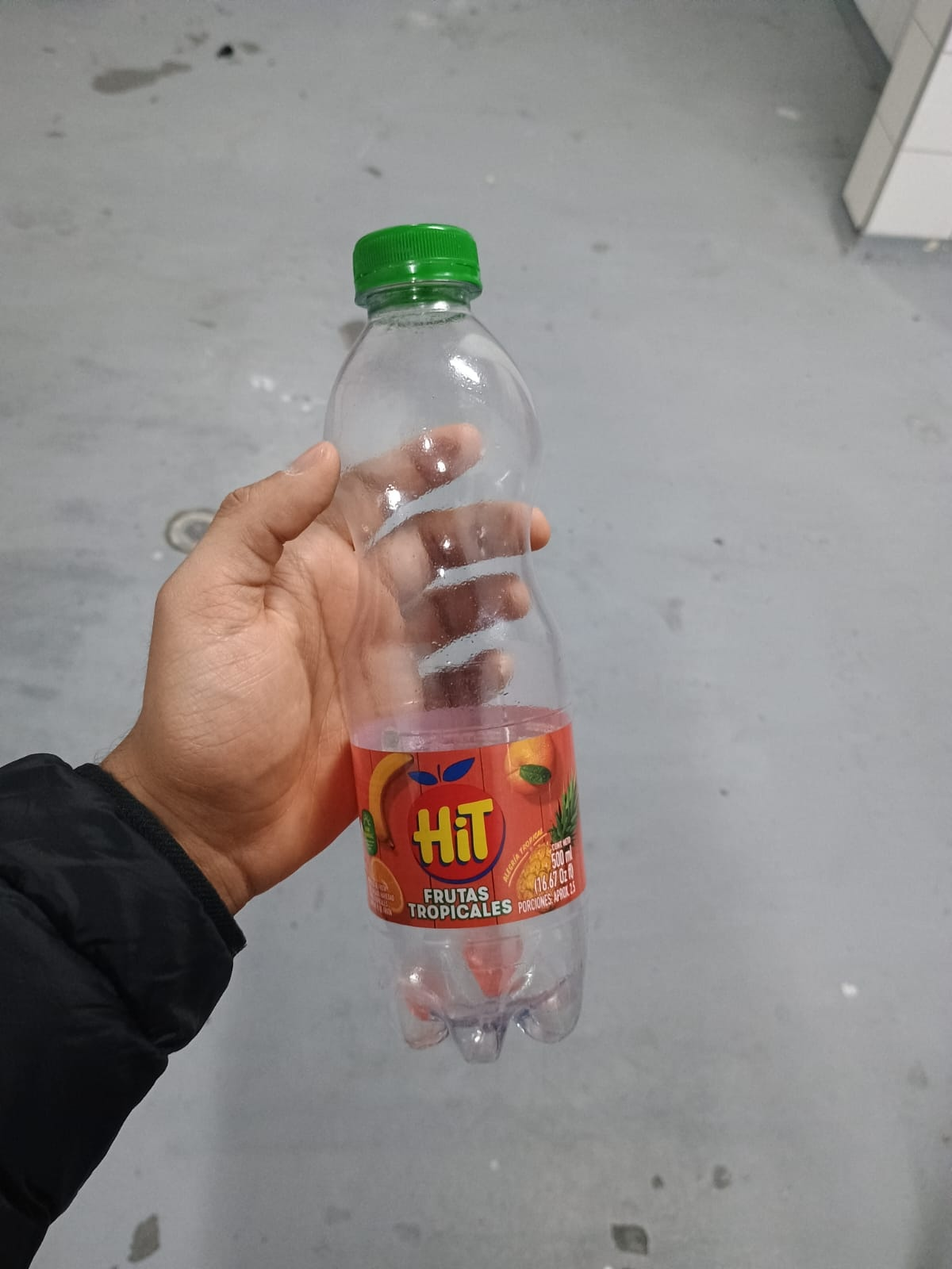Plastico: (326, 223, 586, 1058)
